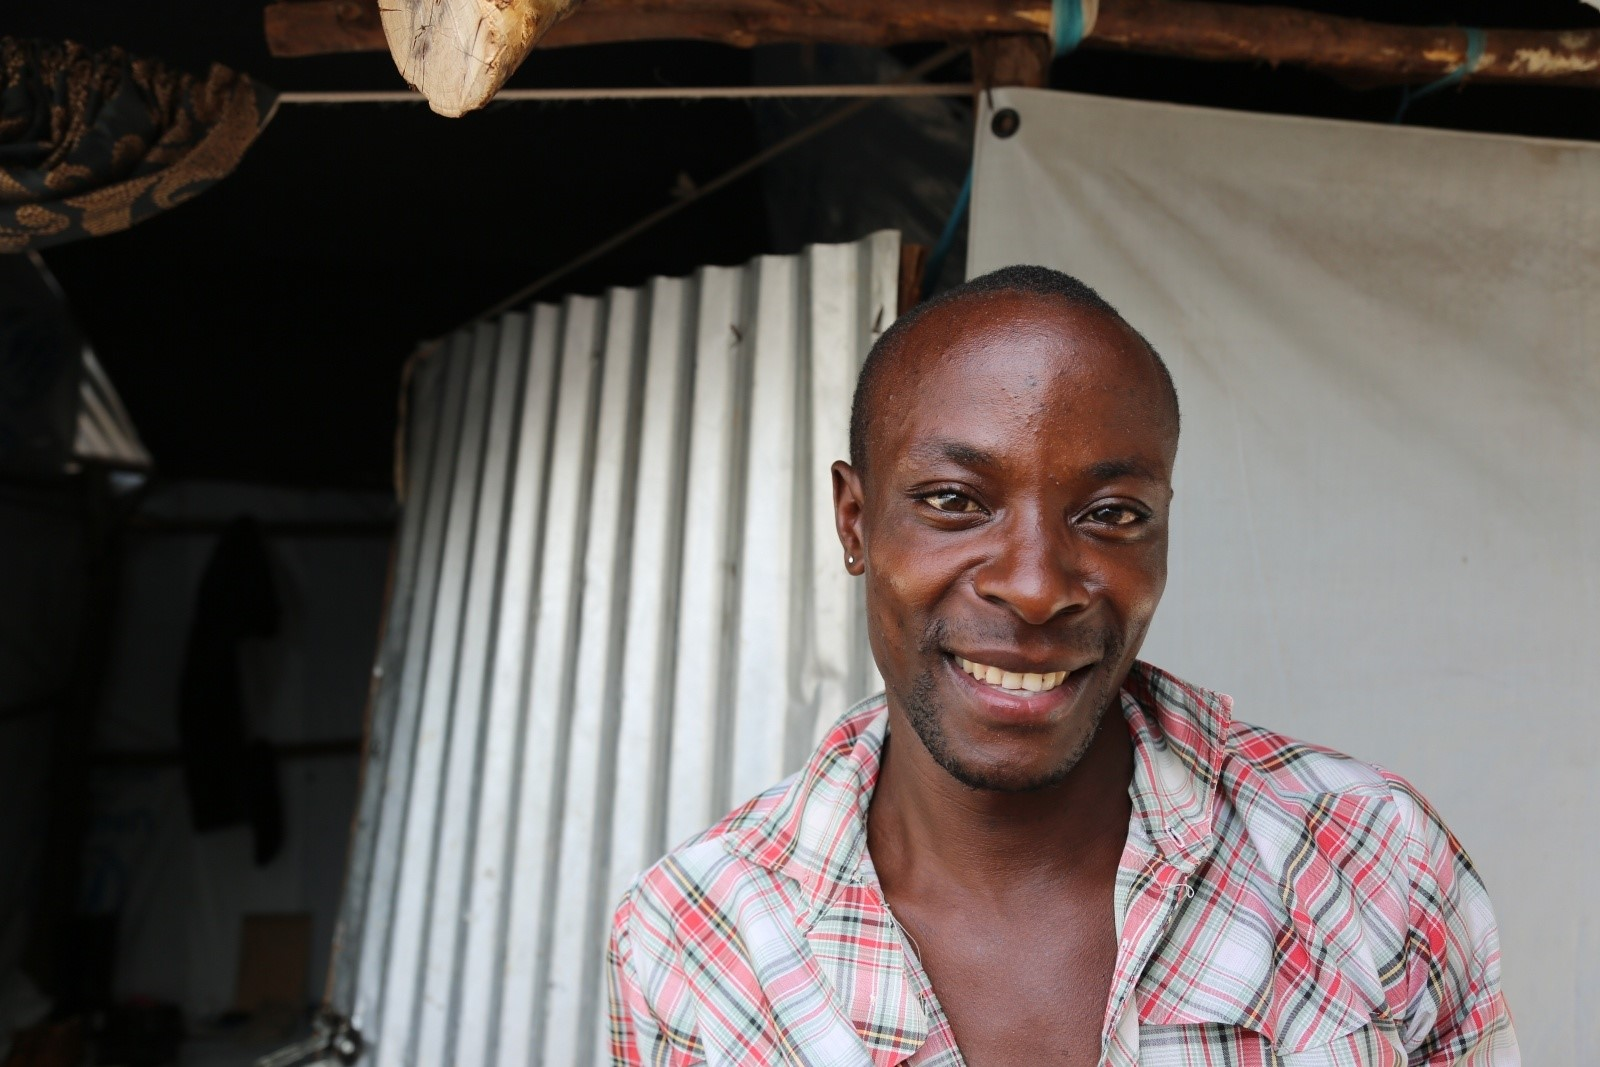face_no_mask: (830, 263, 1178, 785)
